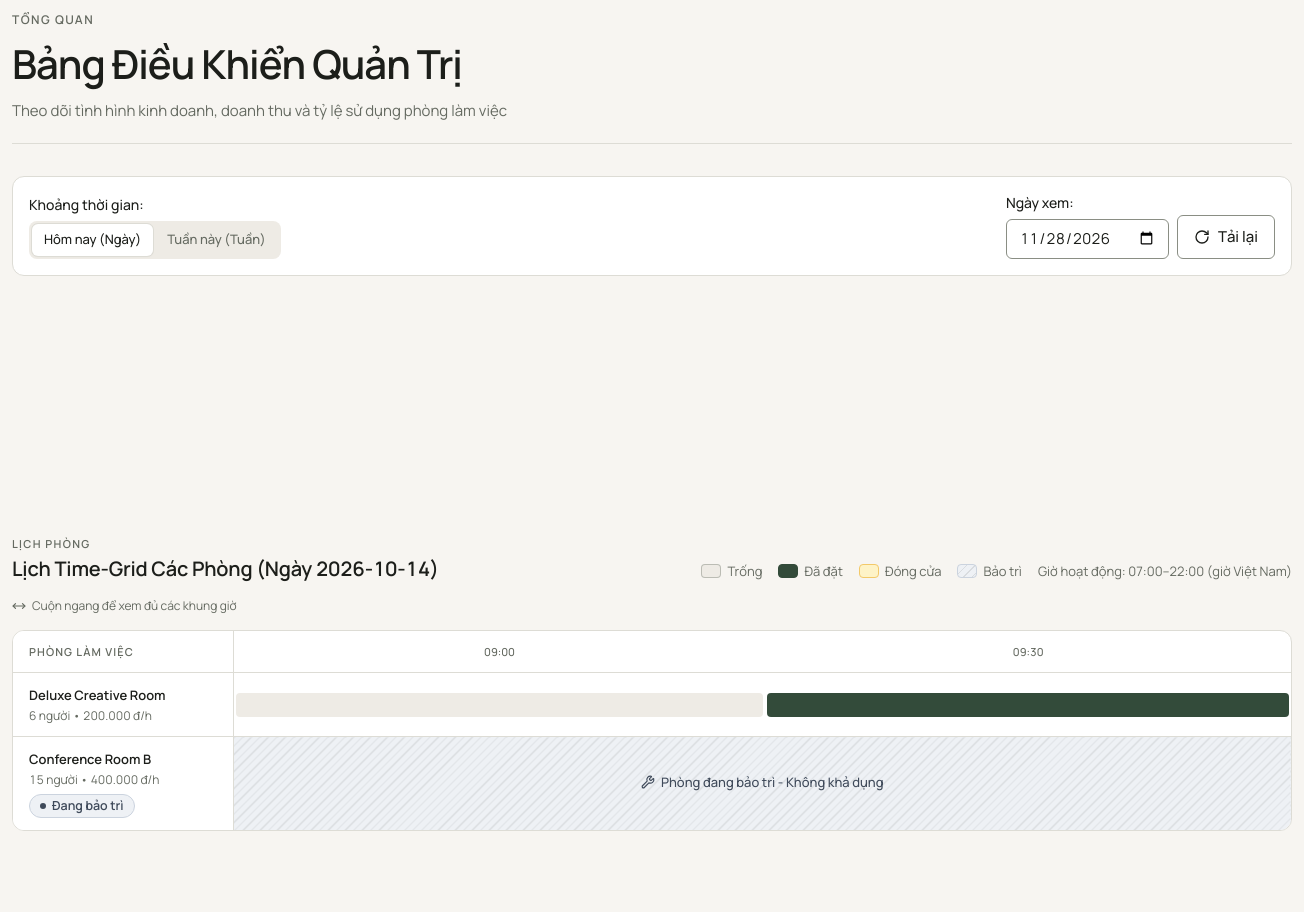
Test: AdminDashboardPage Independent Loading & Error Isolation (CWB-123) › hides stale KPI cards and keeps RoomOverviewGrid visible when switching KPI period fails
Expected: the text "Deluxe Creative Room" is shown, [29,686,166,704]
Click the button with test id "filter-period-week-btn" at (216, 240), box [155,224,278,256]
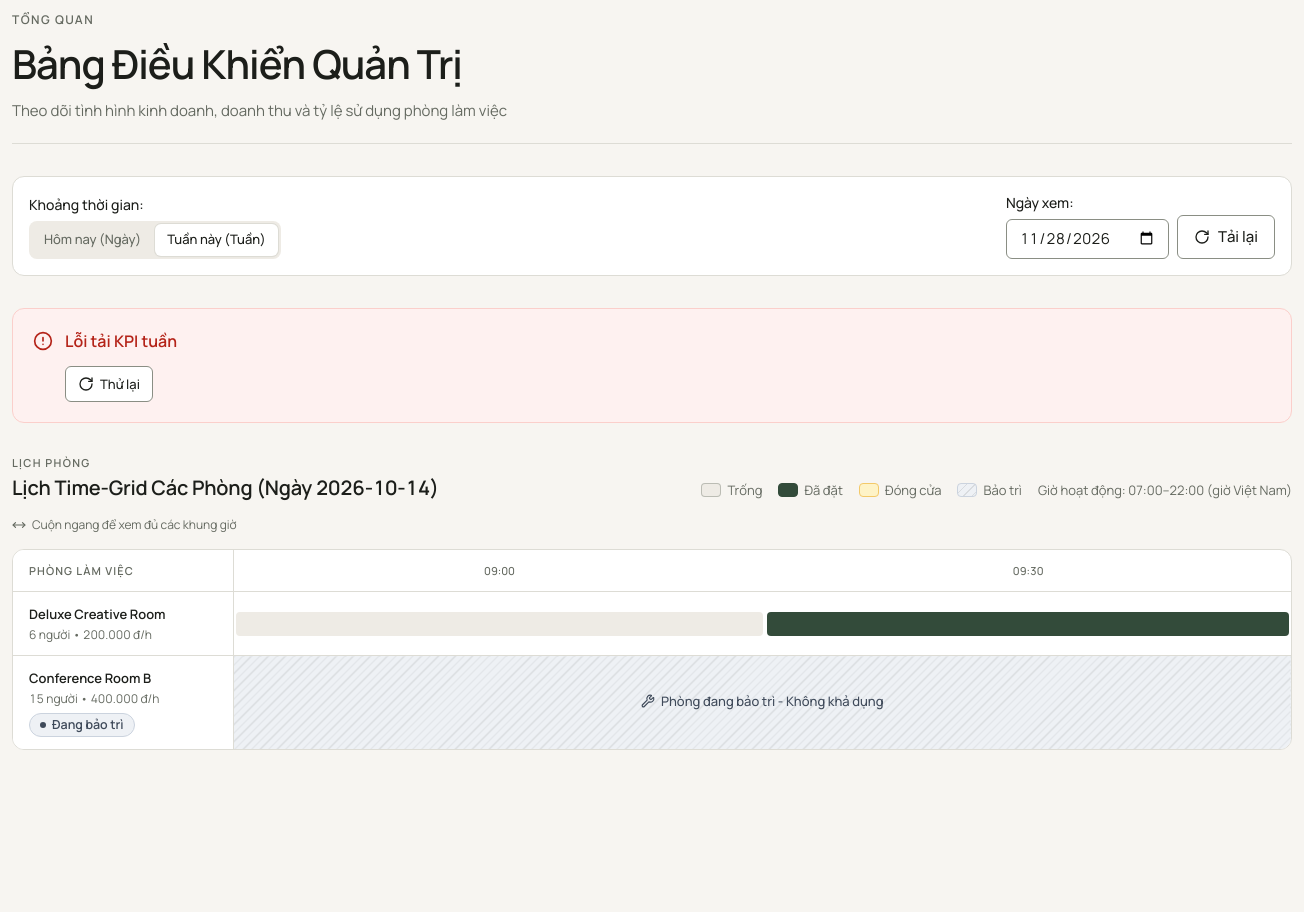
Expected: the text "Deluxe Creative Room" is shown, [29,605,166,623]
Expected: the message "Lỗi tải KPI tuần Thử lại" is shown, [12,308,1292,423]
Expected: the text "Lỗi tải KPI tuần" is shown, [65,330,177,352]
